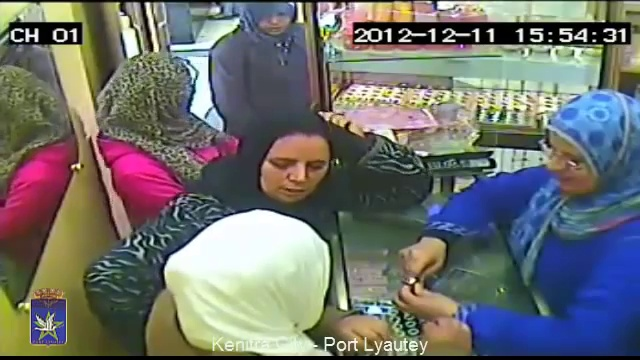face: (265, 144, 326, 200), (542, 138, 590, 197), (259, 11, 289, 35)
